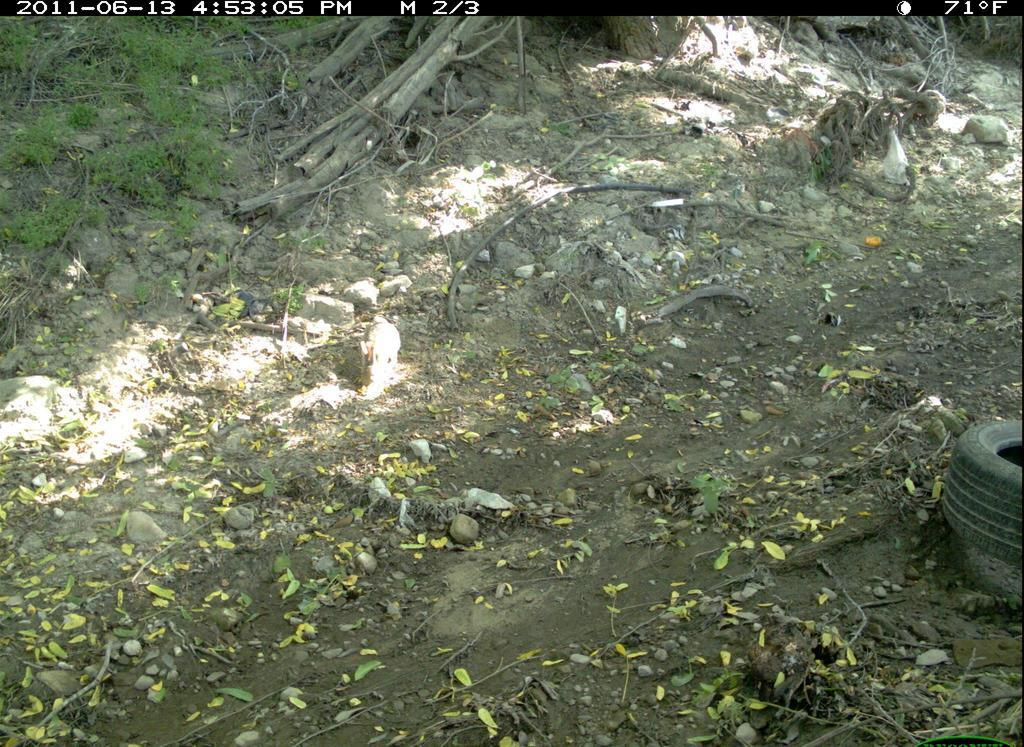rabbit: (337, 296, 419, 402)
